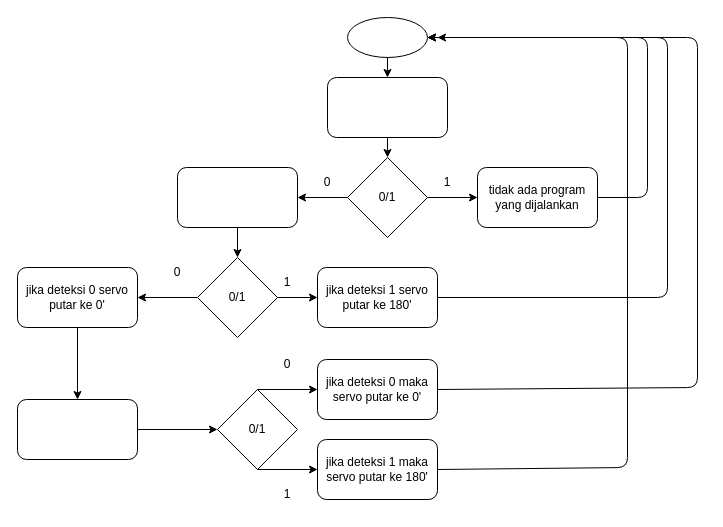
Image size: 723x527. Some labels were removed from this diagram. The centre of each missing label's shape, as x and y in pixels:
"sensor induktif mulai berjalan dan deteksi 0/1" goes at pixel 237 197.
"sensor ir deteksi" goes at pixel 387 107.
"sensor ldr mulai berjalan dan deteksi 0 atau 1" goes at pixel 77 429.
"start" goes at pixel 387 37.
